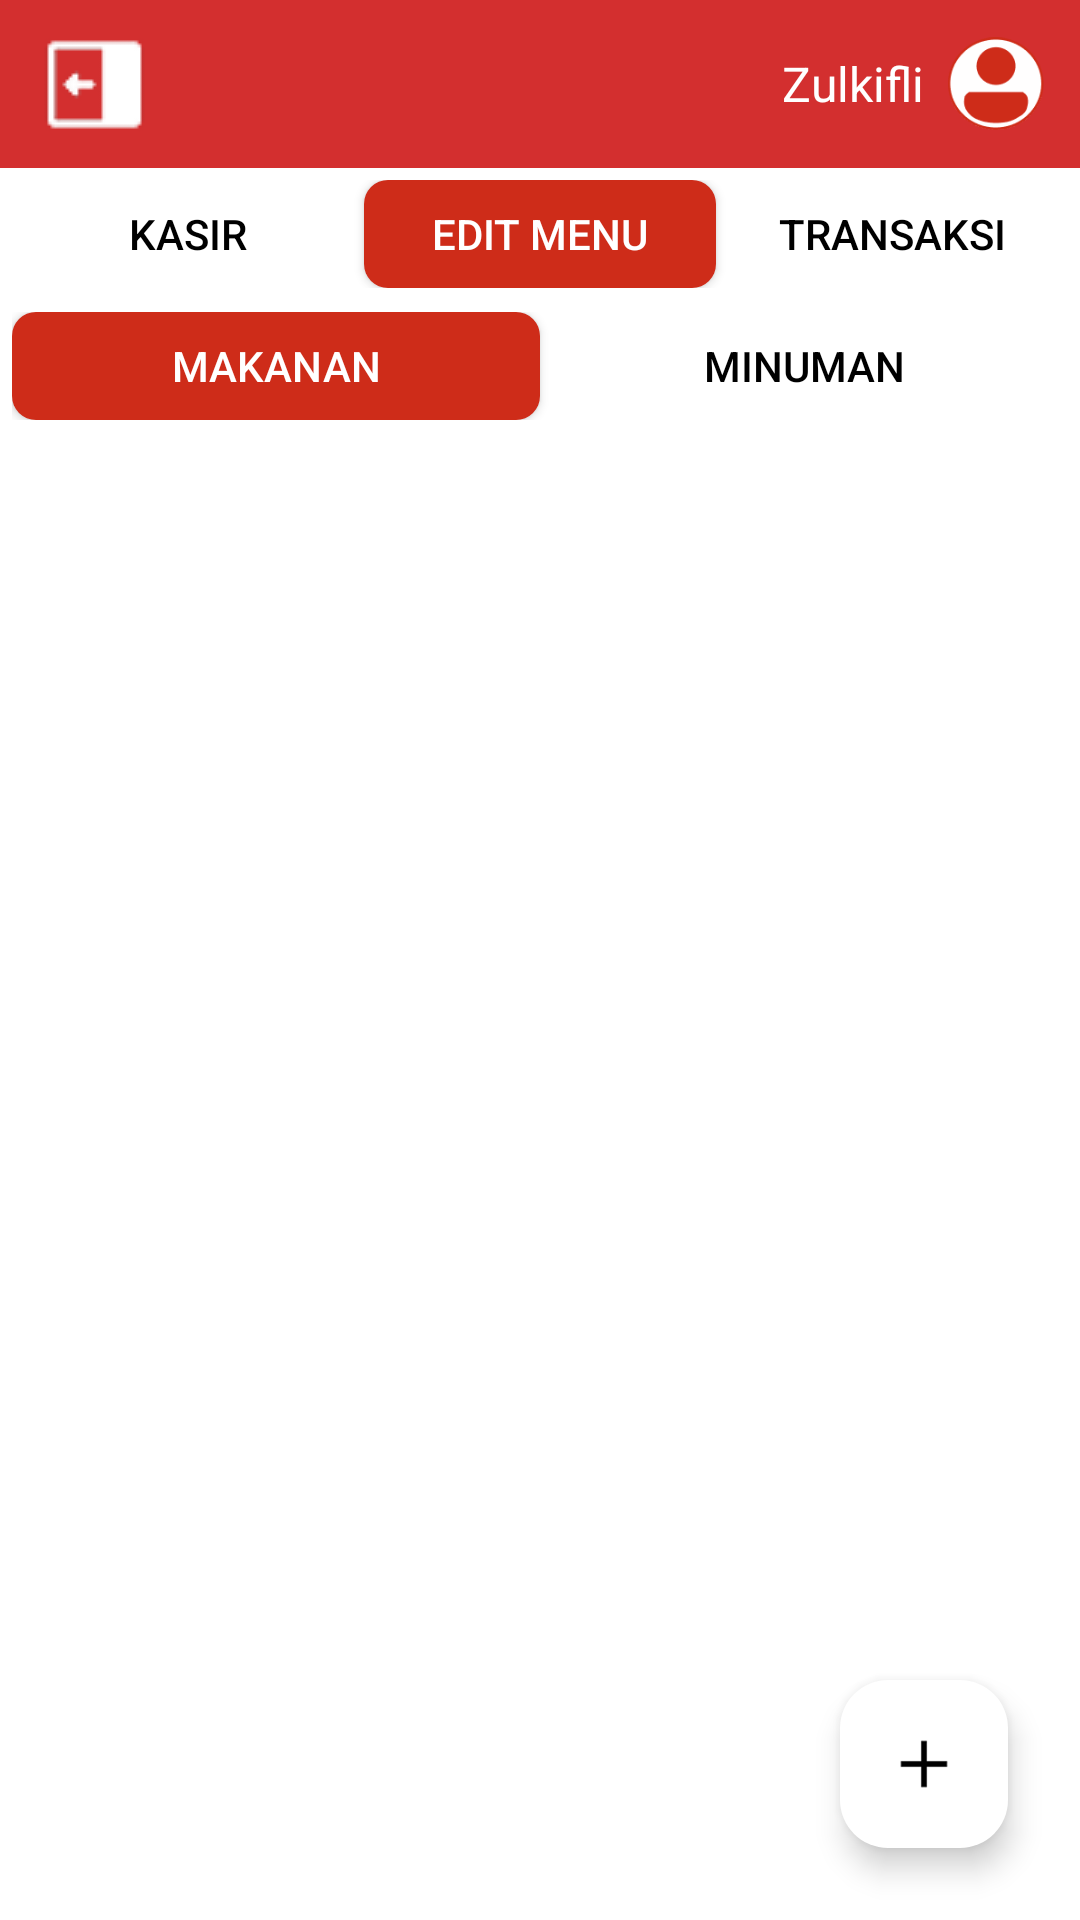

Point at icon controls on the screen. Image size 1080×1920, points as (x,y).
Tambah Menu: (927,1794)
Tombol Kembali: (94,84)
User: (996,83)
